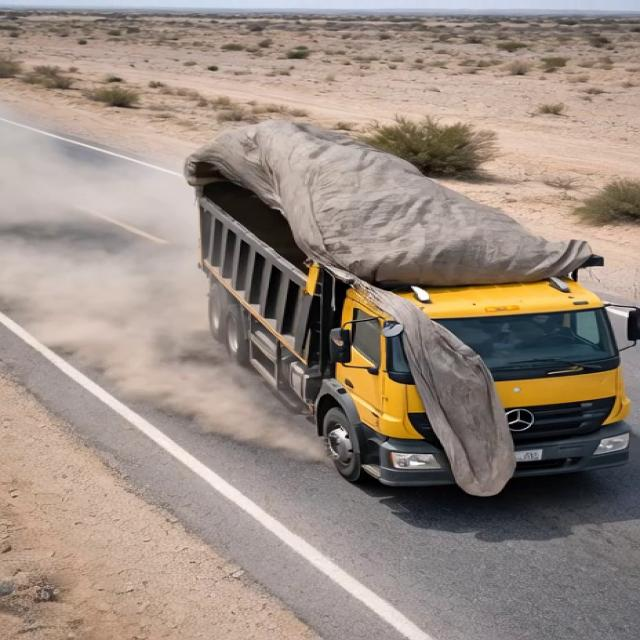trailer: (156, 139, 588, 284)
truck: (129, 111, 636, 493)
